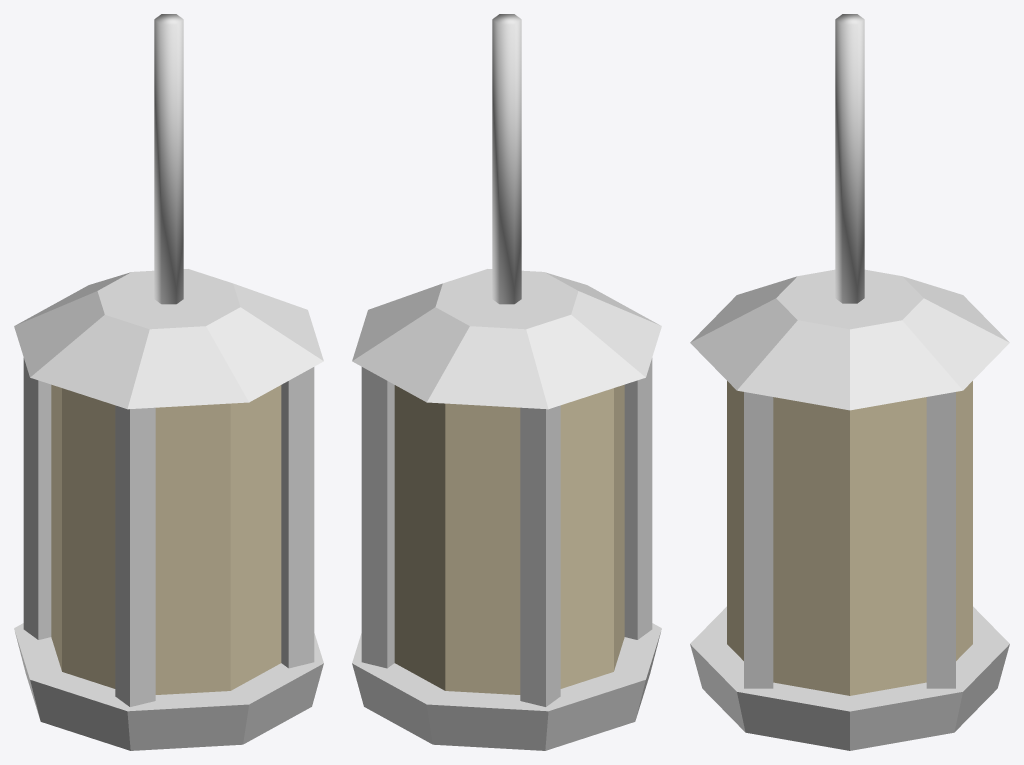
File: wooden_lantern_v0.glb
The picture shows the model from 3 angles, left to right: view 1: azimuth 30°, elevation 25°; view 2: azimuth 150°, elevation 25°; view 3: azimuth 270°, elevation 25°; orthographic projection.
Parts seen in each view (by area): view 1: wooden_lantern_v0; view 2: wooden_lantern_v0; view 3: wooden_lantern_v0.
Part boxes in pixels (x1,y1,x2,y2): wooden_lantern_v0: [14, 14, 323, 750]; wooden_lantern_v0: [352, 14, 661, 750]; wooden_lantern_v0: [690, 14, 1009, 750].
Bounding box in the file's own units: 0.26 × 0.6 × 0.26.
